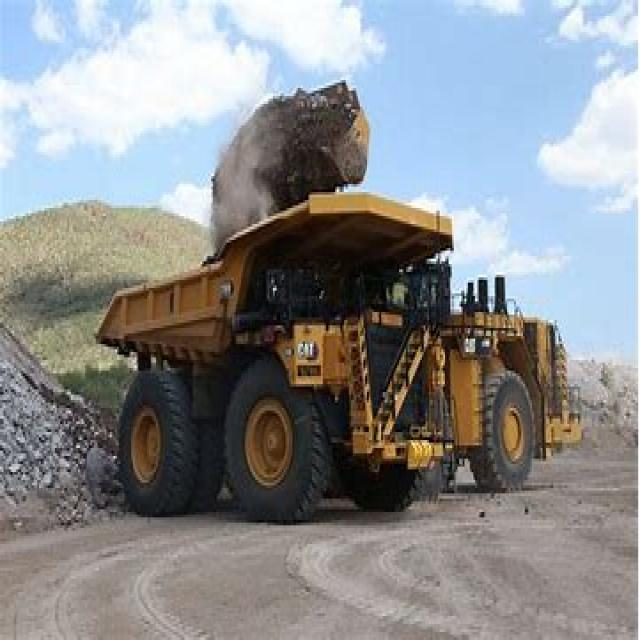dump_truck: (96, 192, 450, 536)
